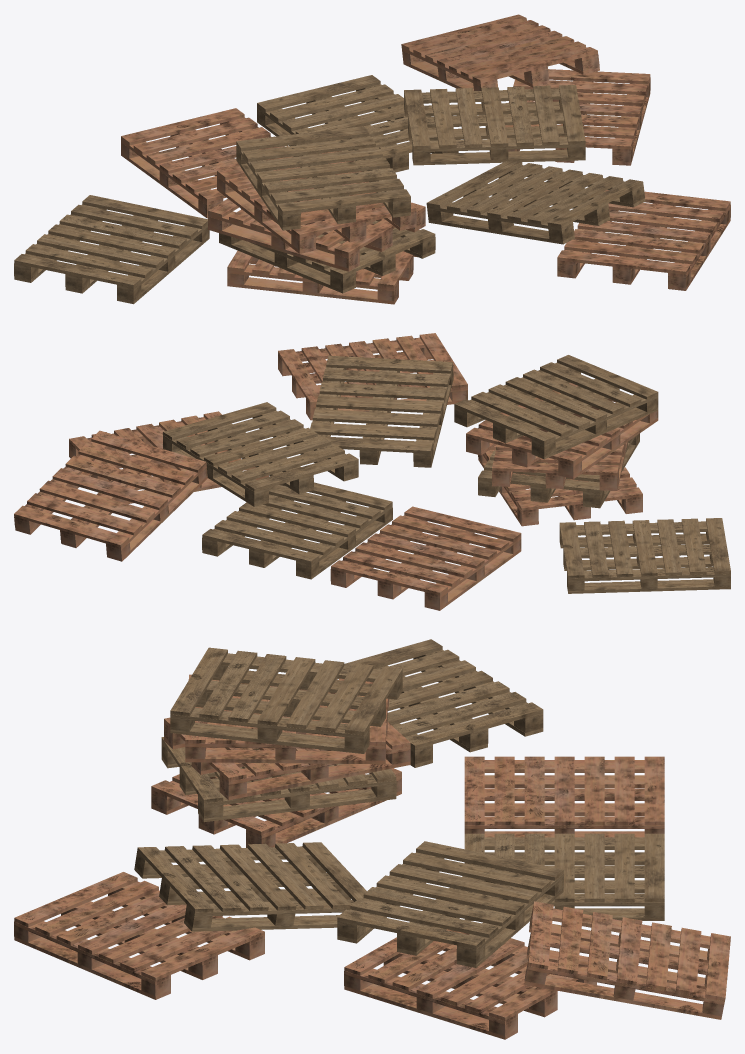
The model's file is free_wood_palette.glb.
3 renders of one model, top to bottom at view 1: azimuth 30°, elevation 25°; view 2: azimuth 150°, elevation 25°; view 3: azimuth 270°, elevation 25°, orthographic. The views are drawn at different scales.
Visible parts, largest first — view 1: pallet_2.004, pallet_2.005, pallet_2.002, pallet_2.003, pallet_1.004, pallet_1.005, pallet_1, pallet_2, pallet_1.006, pallet_1.003, pallet_1.002, pallet_2.001 (+1 smaller); view 2: pallet_1.005, pallet_2.003, pallet_2.002, pallet_2.005, pallet_1, pallet_2.004, pallet_2, pallet_1.004, pallet_1.003, pallet_1.001, pallet_1.002, pallet_2.001 (+1 smaller); view 3: pallet_2.002, pallet_2.004, pallet_1.004, pallet_1.005, pallet_2.003, pallet_1, pallet_1.006, pallet_2.005, pallet_2, pallet_2.001, pallet_1.002, pallet_1.001 (+1 smaller).
Part boxes in pixels (<box>): pallet_2.004: <box>404,85,585,165</box>; pallet_2.005: <box>14,195,209,304</box>; pallet_2.002: <box>236,126,410,230</box>; pallet_2.003: <box>426,160,645,244</box>; pallet_1.004: <box>557,190,730,290</box>; pallet_1.005: <box>401,14,599,90</box>; pallet_1: <box>121,108,287,218</box>; pallet_2: <box>257,75,458,172</box>; pallet_1.006: <box>505,69,650,165</box>; pallet_1.003: <box>217,151,416,253</box>; pallet_1.002: <box>208,198,425,271</box>; pallet_2.001: <box>219,220,435,293</box>; pallet_1.005: <box>14,430,207,561</box>; pallet_2.003: <box>310,355,453,467</box>; pallet_2.002: <box>454,355,658,459</box>; pallet_2.005: <box>559,518,730,593</box>; pallet_1: <box>330,506,521,610</box>; pallet_2.004: <box>163,402,358,506</box>; pallet_2: <box>202,482,392,579</box>; pallet_1.004: <box>278,333,467,420</box>; pallet_1.003: <box>466,382,658,479</box>; pallet_1.001: <box>478,445,642,526</box>; pallet_1.002: <box>492,438,627,490</box>; pallet_2.001: <box>478,433,639,508</box>; pallet_2.002: <box>170,647,402,753</box>; pallet_2.004: <box>337,841,563,967</box>; pallet_1.004: <box>14,872,264,999</box>; pallet_1.005: <box>524,901,730,1019</box>; pallet_2.003: <box>134,842,366,931</box>; pallet_1: <box>464,756,664,837</box>; pallet_1.006: <box>344,929,596,1039</box>; pallet_2.005: <box>336,639,543,767</box>; pallet_2: <box>464,833,664,920</box>; pallet_2.001: <box>161,737,396,822</box>; pallet_1.002: <box>164,692,410,800</box>; pallet_1.001: <box>151,768,401,847</box>.
Bounding box in the file's own units: 28.75 × 4.12 × 23.01.
2 materials, 2 textured.
